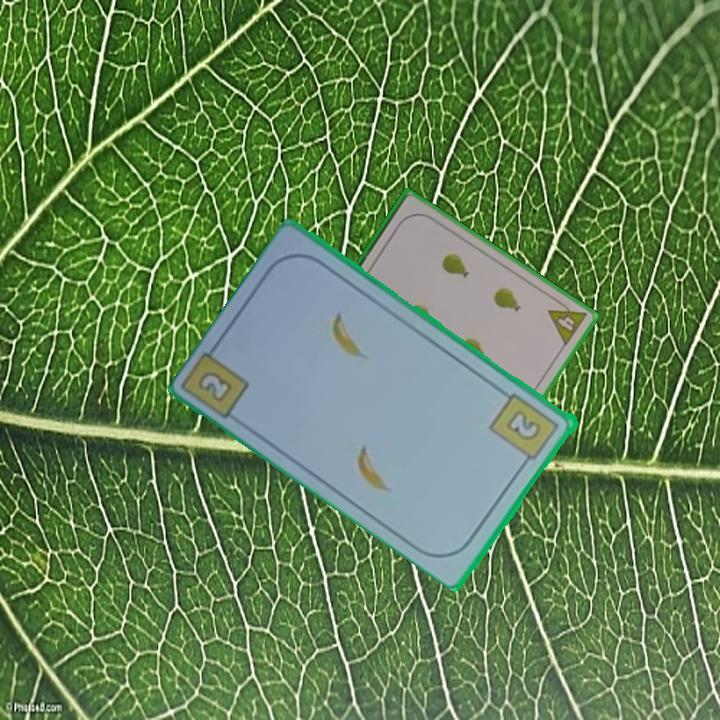2b: (486, 389, 563, 470), (194, 367, 236, 406)
4p: (544, 295, 590, 349)
